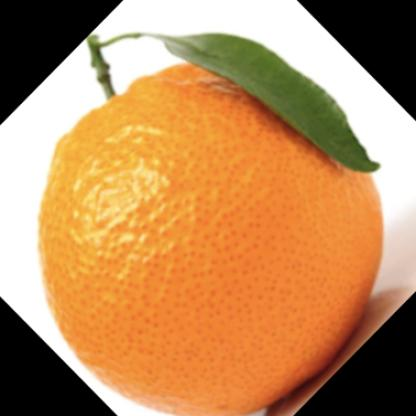fresh: (39, 58, 385, 416)
